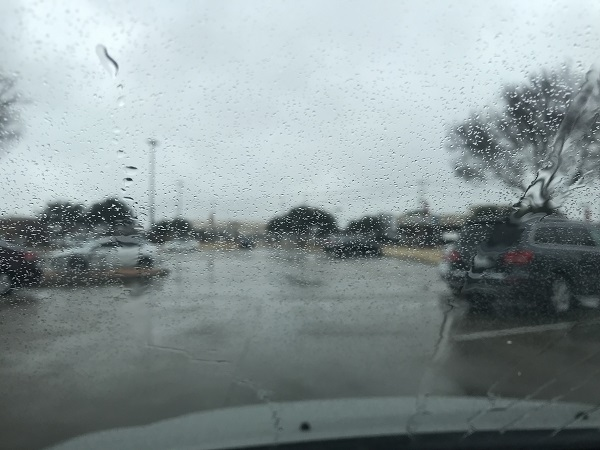car: (455, 213, 600, 309), (53, 235, 161, 268), (322, 234, 382, 256)
